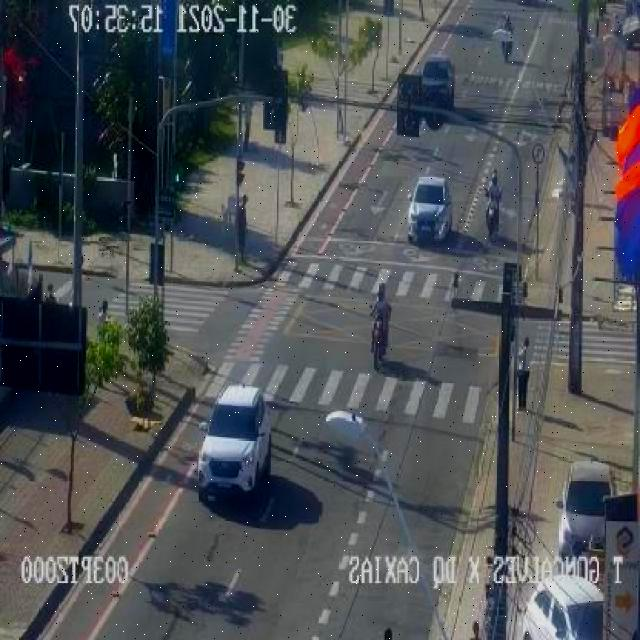car: (197, 384, 274, 498), (556, 458, 618, 564), (526, 578, 602, 640), (406, 175, 452, 243), (420, 54, 456, 108)
motorbike: (368, 281, 392, 367), (483, 168, 505, 240), (514, 333, 532, 412), (236, 192, 249, 266), (240, 98, 253, 154), (501, 16, 514, 66), (274, 38, 286, 70)
